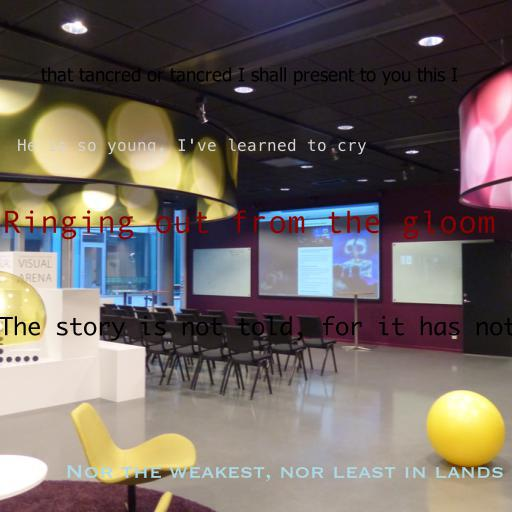Andale Mono: (2, 210, 496, 240)
Copperplate: (64, 465, 504, 482)
Menlo: (17, 138, 367, 155)
Monaco: (0, 315, 512, 341)
Tahoma: (40, 67, 458, 86)
